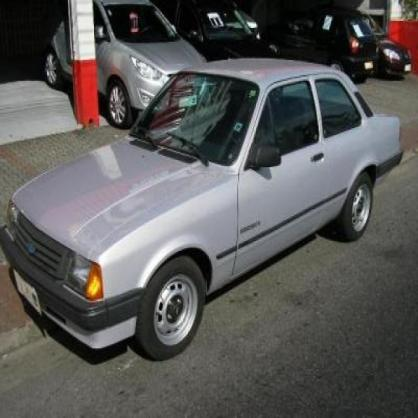car: (3, 61, 406, 369)
